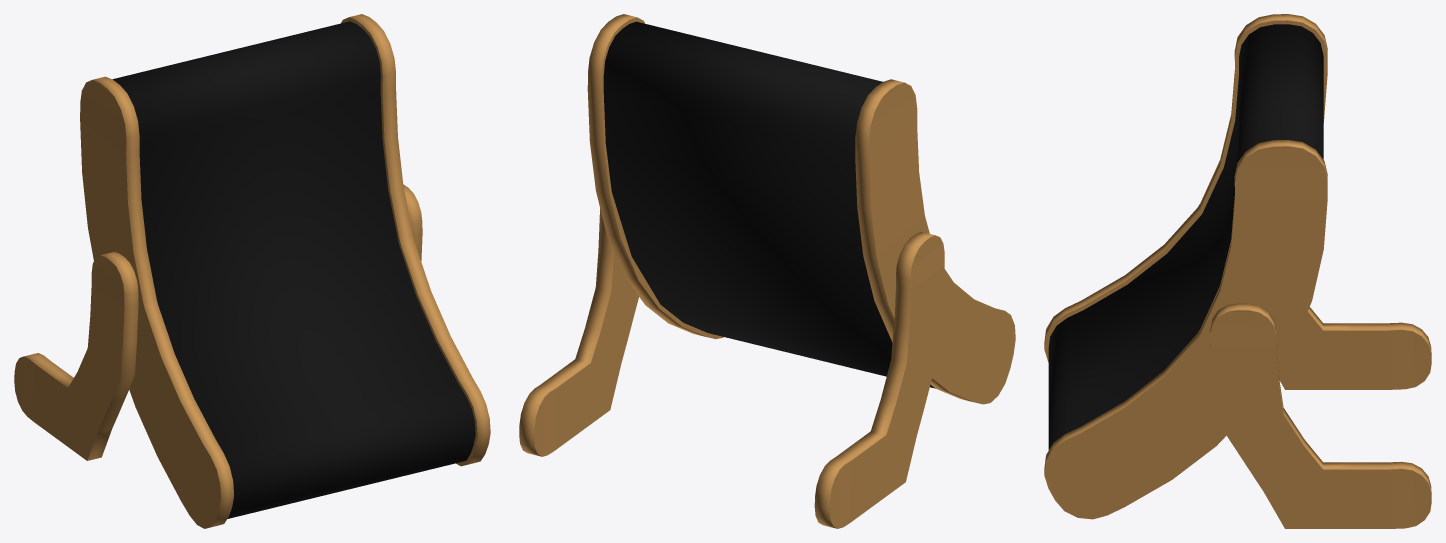
Rendered from Scratcher.fbx.
3 views of the same model, side by side, from view 1: azimuth 30°, elevation 25°; view 2: azimuth 150°, elevation 25°; view 3: azimuth 270°, elevation 25° (orthographic). The views are drawn at different scales.
Visible parts, largest first — view 1: Scratcher; view 2: Scratcher; view 3: Scratcher.
Boxes of the visible parts, x1,y1,x2,y2 form: Scratcher: (14, 14, 490, 528); Scratcher: (519, 14, 1015, 528); Scratcher: (1044, 14, 1431, 528).
Bounding box in the file's own units: 3.23 × 3.86 × 3.61.
